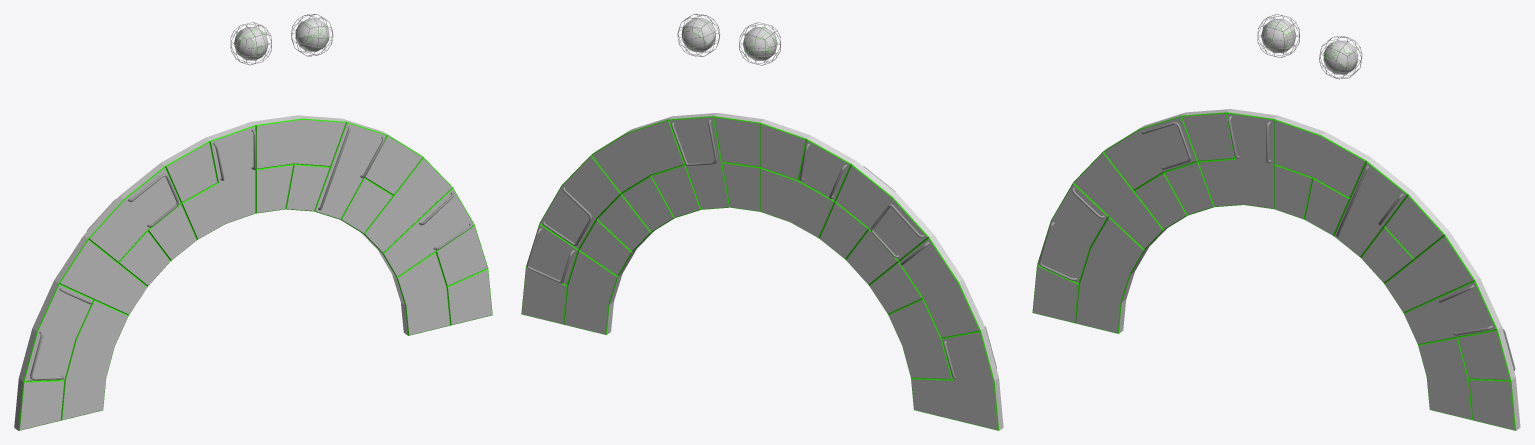
File: SM-Sci-fi planet walls_props.fbx
3 views of the same model, side by side, from view 1: azimuth 30°, elevation 25°; view 2: azimuth 150°, elevation 25°; view 3: azimuth 330°, elevation 25° (orthographic).
Parts seen in each view (by area): view 1: SM-Wall 90d panel, SM-Wall 45d panel-2, SM-Wall 45d panel, SM-Wall 90d, SM-Wall 90d pipe, SM-Deco sphere, SM-Deco sphere-2, SM-Deco wire-2, SM-Deco wire, SM-Wall 45d, SM-Wall 45d pipe; view 2: SM-Wall 90d panel, SM-Wall 45d panel, SM-Wall 45d panel-2, SM-Wall 90d, SM-Wall 90d pipe, SM-Deco sphere-2, SM-Deco sphere, SM-Wall 45d pipe-2, SM-Deco wire-2, SM-Deco wire, SM-Wall 45d; view 3: SM-Wall 90d panel, SM-Wall 45d panel-2, SM-Wall 45d panel, SM-Wall 45d-2, SM-Wall 45d, SM-Wall 90d pipe, SM-Deco sphere-2, SM-Deco sphere, SM-Wall 90d, SM-Deco wire-2, SM-Deco wire.
Part boxes in pixels (x1,y1,x2,y2): SM-Wall 90d panel: (18, 125, 255, 430); SM-Wall 45d panel-2: (364, 157, 492, 335); SM-Wall 45d panel: (255, 118, 422, 233); SM-Wall 90d: (14, 122, 254, 430); SM-Wall 90d pipe: (30, 129, 256, 380); SM-Deco sphere: (234, 27, 268, 60); SM-Deco sphere-2: (295, 18, 329, 52); SM-Deco wire-2: (291, 14, 333, 56); SM-Deco wire: (230, 22, 271, 65); SM-Wall 45d: (251, 115, 421, 155); SM-Wall 45d pipe: (318, 126, 384, 210); SM-Wall 90d panel: (760, 123, 998, 430); SM-Wall 45d panel: (591, 116, 760, 232); SM-Wall 45d panel-2: (521, 155, 651, 334); SM-Wall 90d: (760, 119, 1003, 430); SM-Wall 90d pipe: (799, 143, 996, 378); SM-Deco sphere-2: (681, 18, 715, 52); SM-Deco sphere: (743, 27, 777, 60); SM-Wall 45d pipe-2: (526, 187, 591, 283); SM-Deco wire-2: (677, 14, 720, 56); SM-Deco wire: (739, 22, 780, 65); SM-Wall 45d: (593, 113, 764, 153); SM-Wall 90d panel: (1032, 112, 1274, 333); SM-Wall 45d panel-2: (1384, 235, 1515, 430); SM-Wall 45d panel: (1274, 119, 1444, 283); SM-Wall 45d-2: (1445, 231, 1520, 430); SM-Wall 45d: (1274, 116, 1449, 234); SM-Wall 90d pipe: (1039, 116, 1270, 280); SM-Deco sphere-2: (1323, 40, 1358, 74); SM-Deco sphere: (1261, 18, 1296, 53); SM-Wall 90d: (1105, 109, 1278, 333); SM-Deco wire-2: (1319, 36, 1362, 79); SM-Deco wire: (1257, 14, 1299, 57).
Bounding box in the file's own units: 311 × 216 × 23.42.
